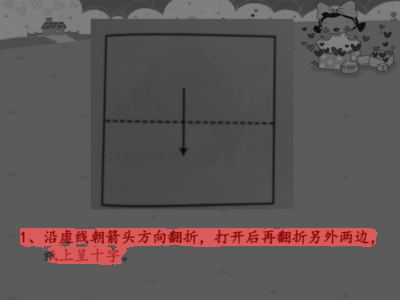text: (19, 230, 375, 246), (43, 246, 130, 262)
